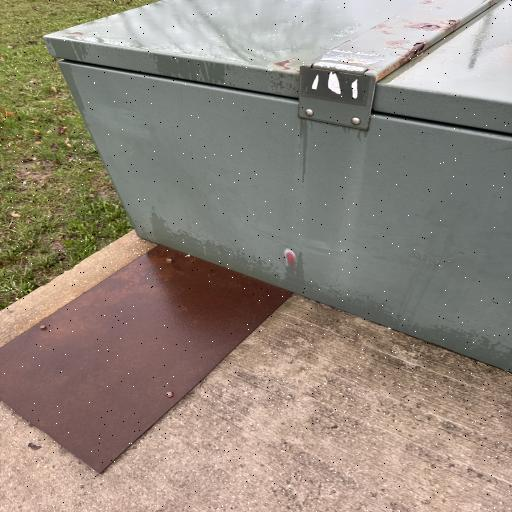Electrical Box: (42, 0, 512, 383)
